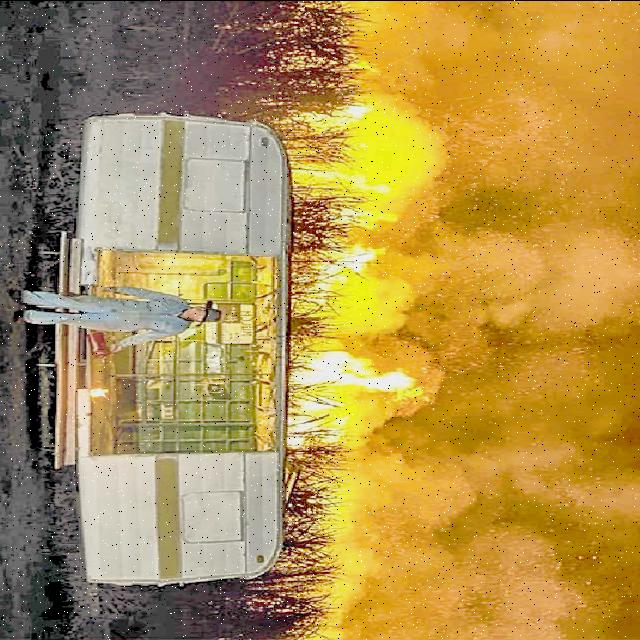api: (291, 335, 445, 406), (289, 240, 385, 314), (284, 411, 352, 452), (335, 93, 385, 131)
asap: (275, 323, 599, 640), (293, 207, 640, 349), (282, 42, 456, 240)
